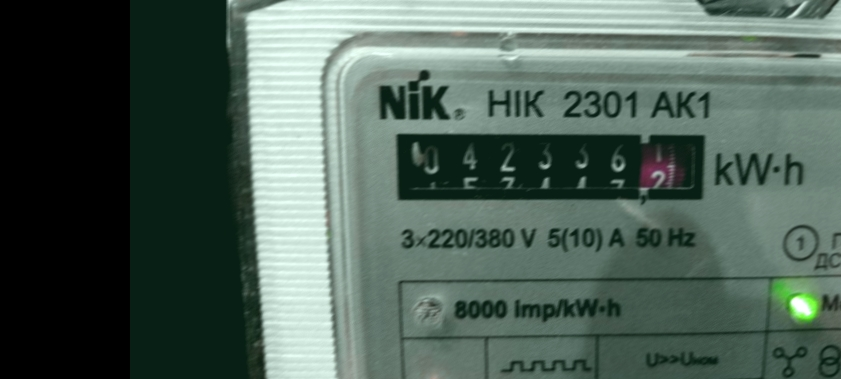0: (421, 142, 441, 176)
1: (651, 138, 664, 164)
2: (497, 139, 519, 173), (648, 169, 665, 190)
3: (534, 138, 553, 170), (573, 138, 591, 170)
4: (461, 139, 479, 171)
6: (608, 141, 629, 175)
screen: (383, 119, 719, 212)
